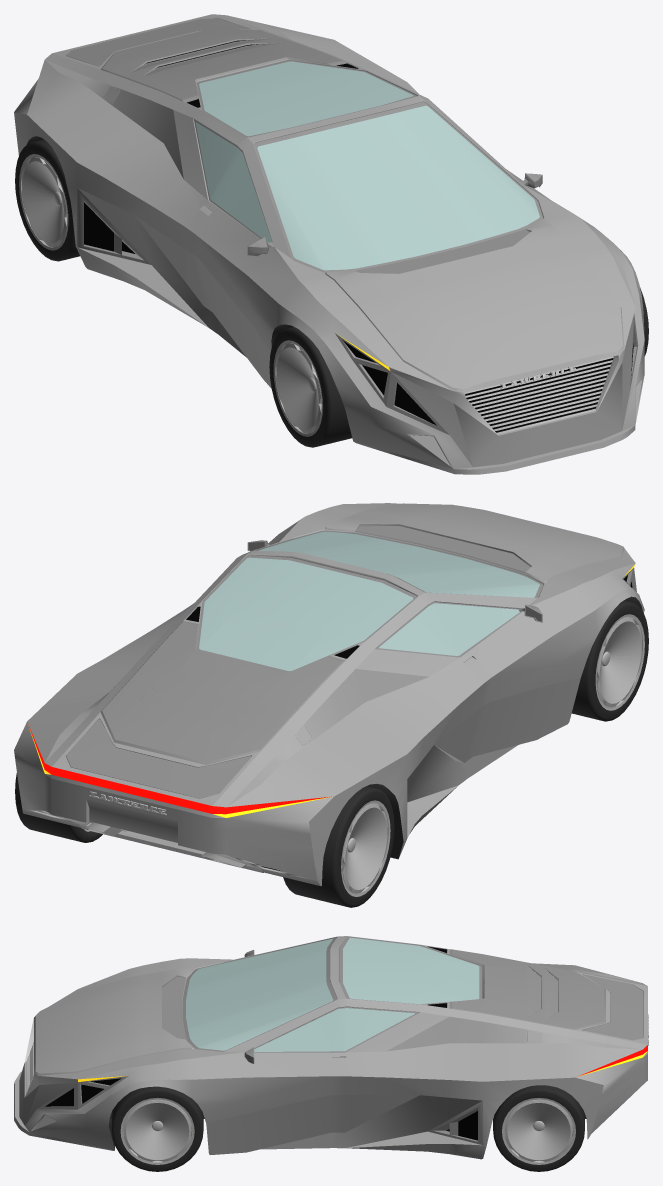
Rendered from Tonitrus FIX1.fbx.
The picture shows the model from 3 angles, top to bottom: view 1: azimuth 30°, elevation 25°; view 2: azimuth 150°, elevation 25°; view 3: azimuth 270°, elevation 25°; orthographic projection. The views are drawn at different scales.
Parts seen in each view (by area): view 1: tonitrus, Rightwheel, Rearwheel; view 2: tonitrus, Rearwheel, Rightwheel; view 3: tonitrus, Rearwheel, Leftwheel.
Boxes of the visible parts, x1,y1,x2,y2 form: tonitrus: [14, 14, 644, 474]; Rightwheel: [269, 327, 352, 447]; Rearwheel: [15, 139, 79, 261]; tonitrus: [14, 503, 644, 886]; Rearwheel: [15, 773, 394, 907]; Rightwheel: [571, 600, 648, 721]; tonitrus: [14, 936, 648, 1159]; Rearwheel: [493, 1085, 584, 1171]; Leftwheel: [111, 1086, 203, 1171].
Bounding box in the file's own units: 220 × 127 × 489.
